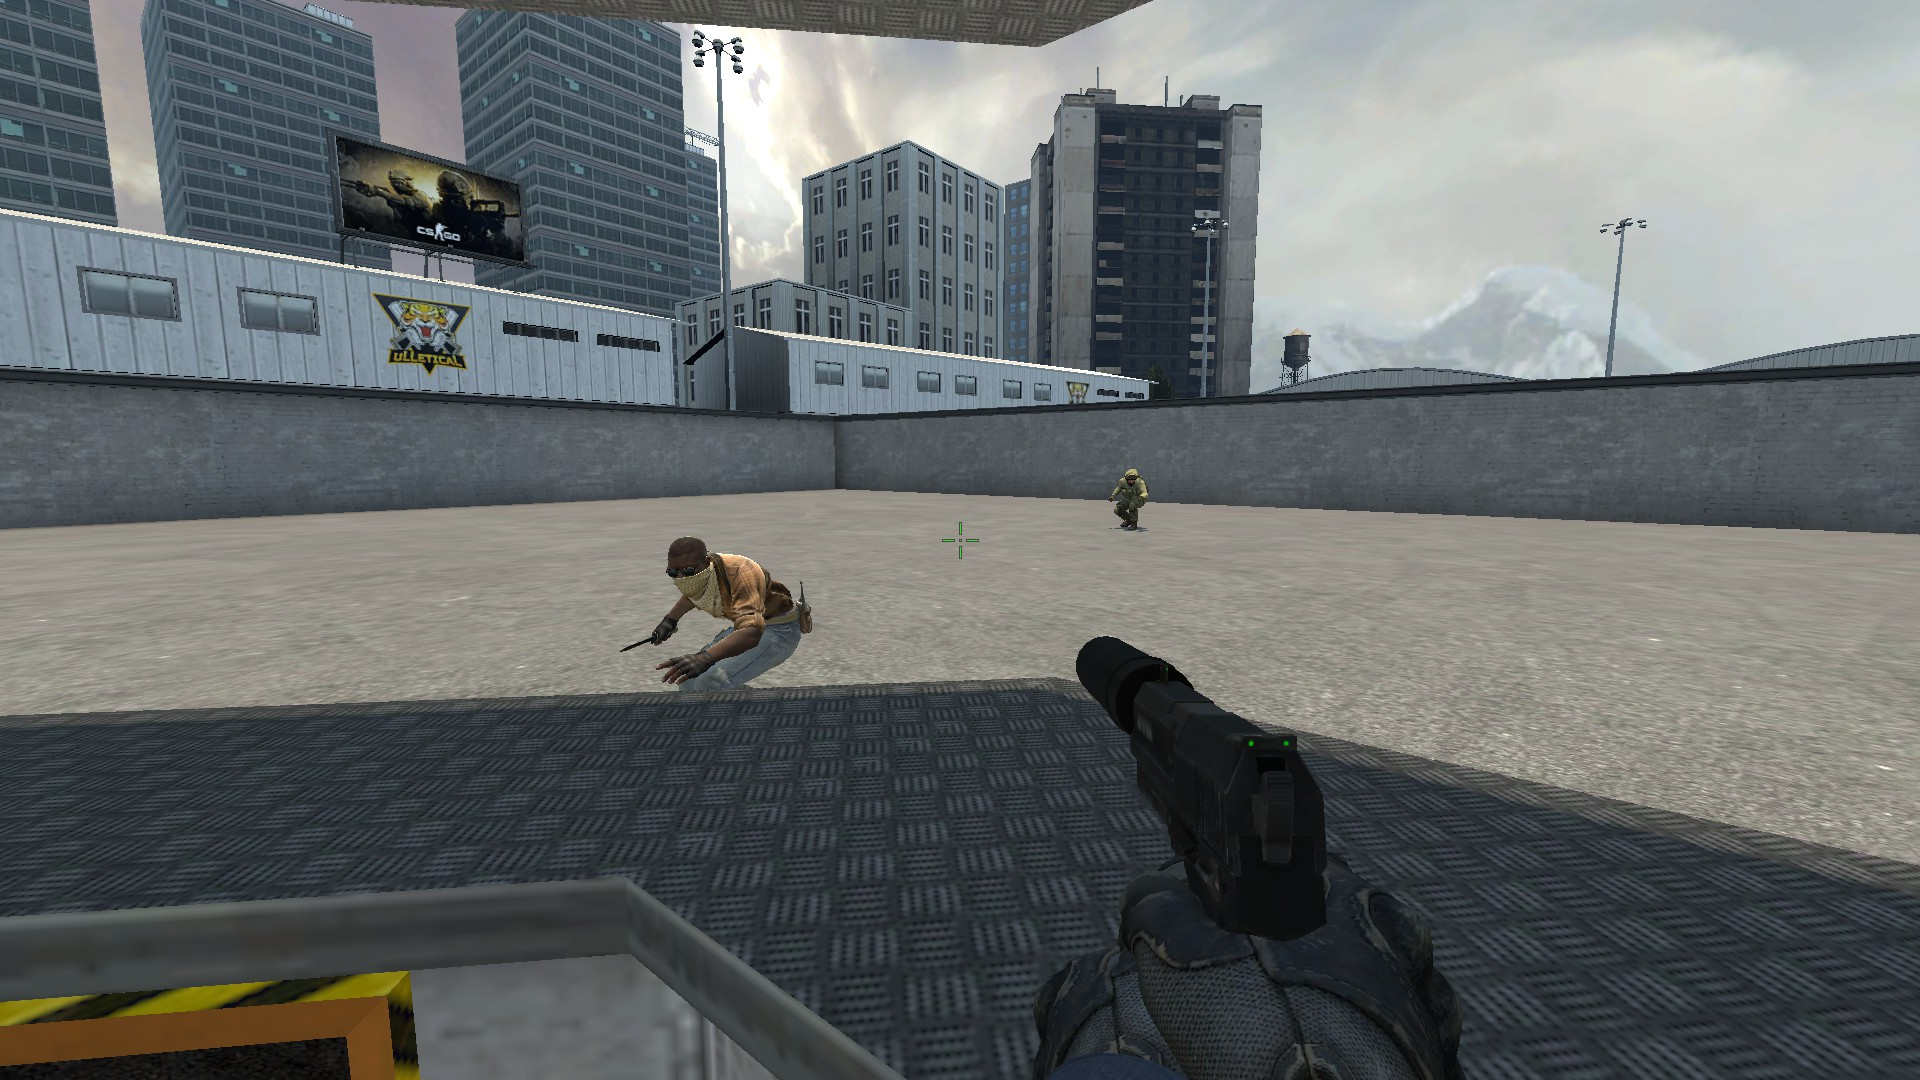tr: (620, 534, 814, 700)
tr head: (660, 534, 720, 602)
